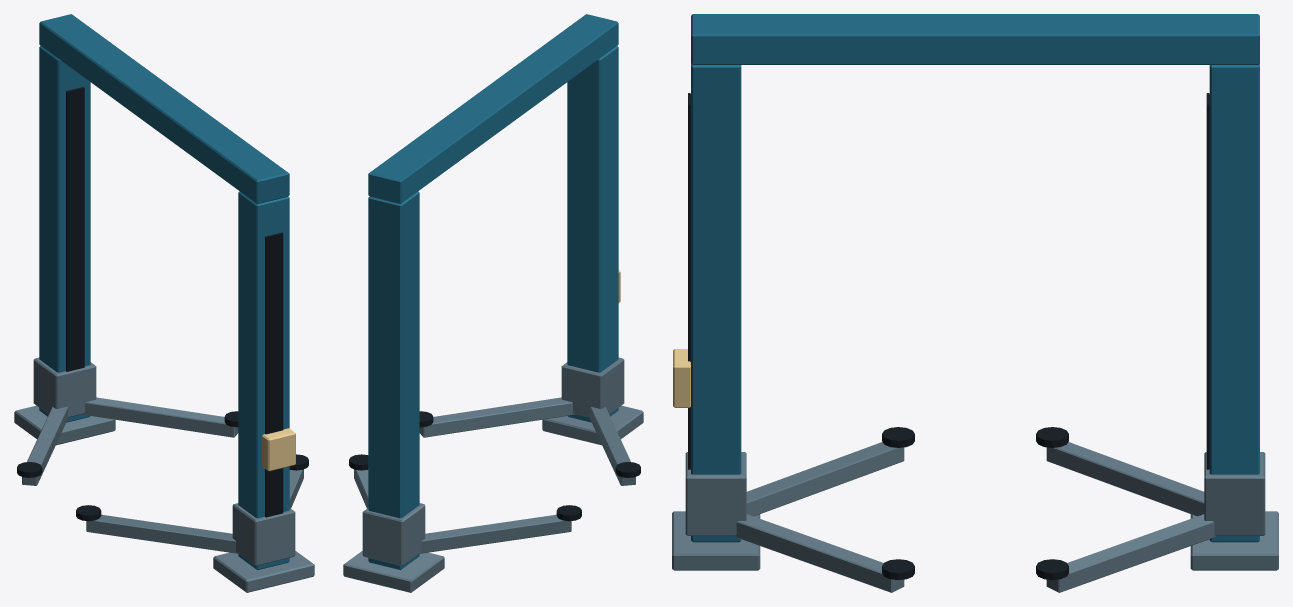
Rendered from EC_TwoPostLift.fbx.
3 renders of one model, left to right at view 1: azimuth 30°, elevation 25°; view 2: azimuth 150°, elevation 25°; view 3: azimuth 270°, elevation 25°, orthographic. The views are drawn at different scales.
Parts seen in each view (by area): view 1: EC_TwoPostLift; view 2: EC_TwoPostLift; view 3: EC_TwoPostLift.
Part boxes in pixels (left/top/right/bottom): EC_TwoPostLift: left=14, top=14, right=314, bottom=592; EC_TwoPostLift: left=343, top=14, right=643, bottom=592; EC_TwoPostLift: left=672, top=14, right=1278, bottom=592.
Size of the model in its own units: 2.2 by 3.69 by 3.86.
